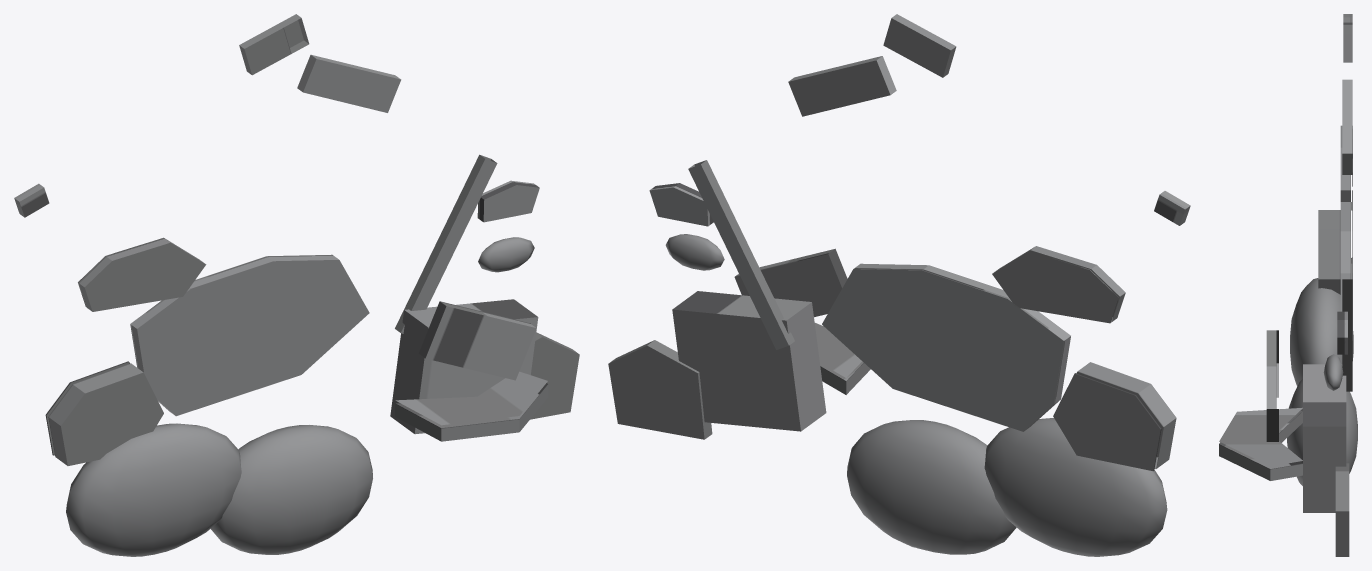
3 views of the same model, side by side, from view 1: azimuth 30°, elevation 25°; view 2: azimuth 150°, elevation 25°; view 3: azimuth 270°, elevation 25° (orthographic). The views are drawn at different scales.
Size of the model in its own units: 1.03 by 0.9149 by 0.2486.
